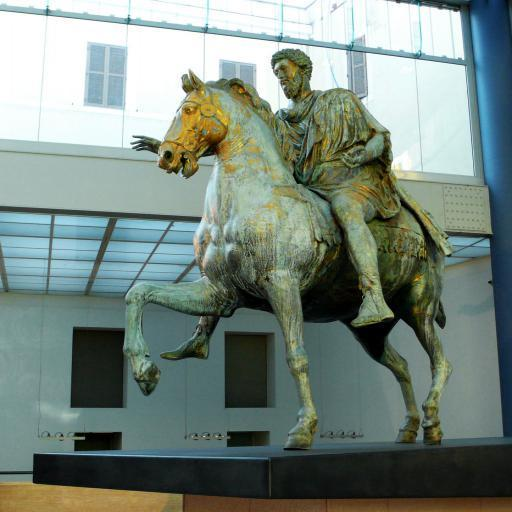horse: (120, 68, 456, 450)
